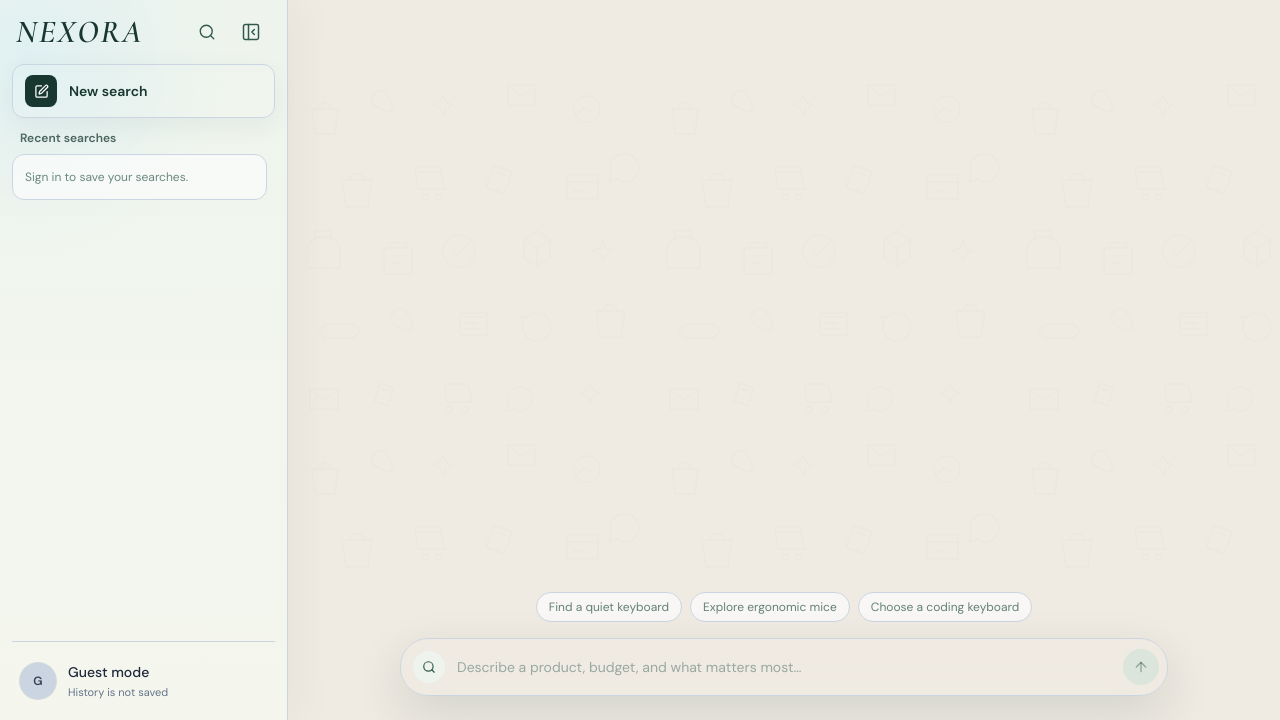
it: live buyer search › renders grounded recommendations without a technical match-status line
Type "wireless keyboard under 8000" into the field named "Shopping intent" at (784, 667), box [453,647,1115,687]
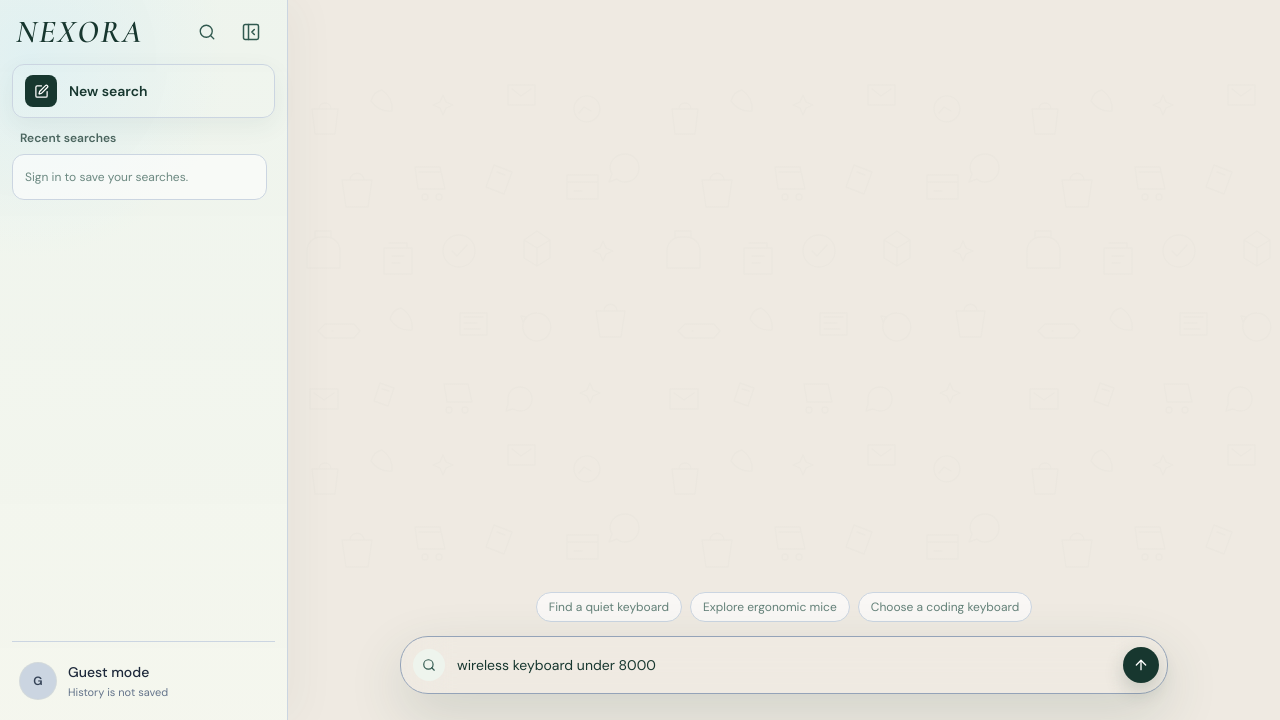
Click the button named "Send shopping intent" at (1141, 665), box [1123,647,1159,683]
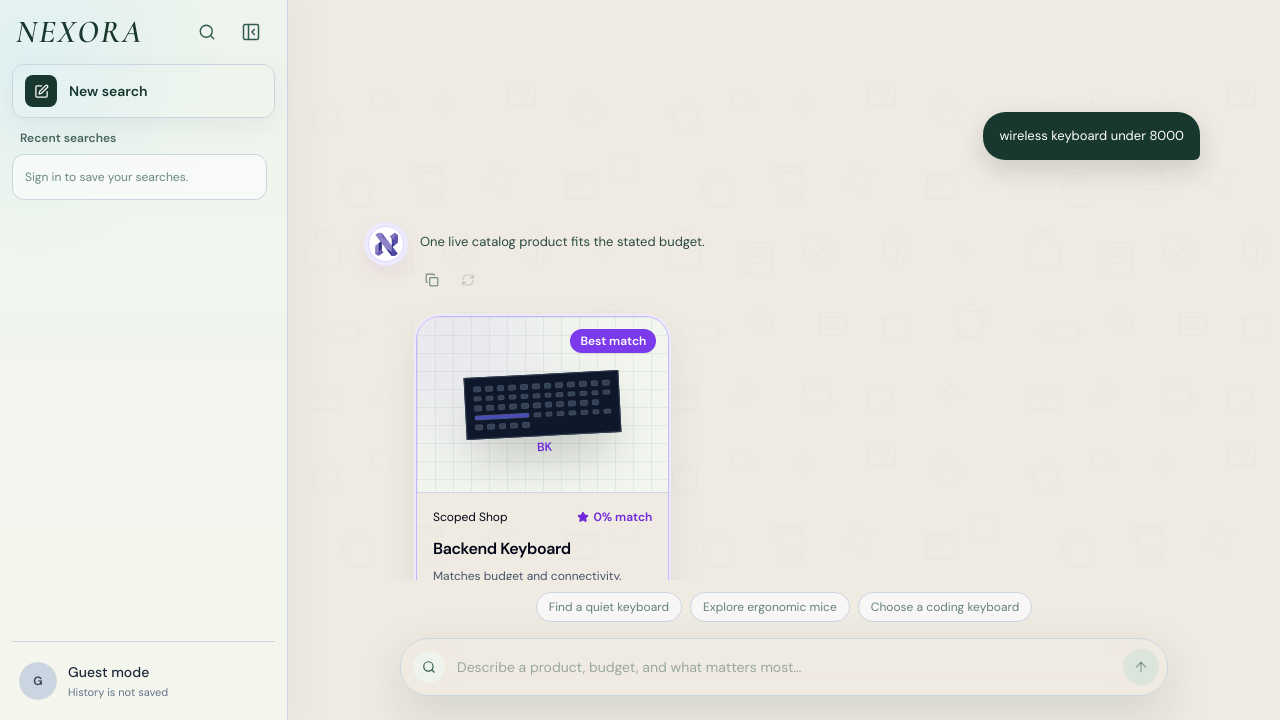
Result: the heading "Backend Keyboard" is shown at [433,538,571,559]
